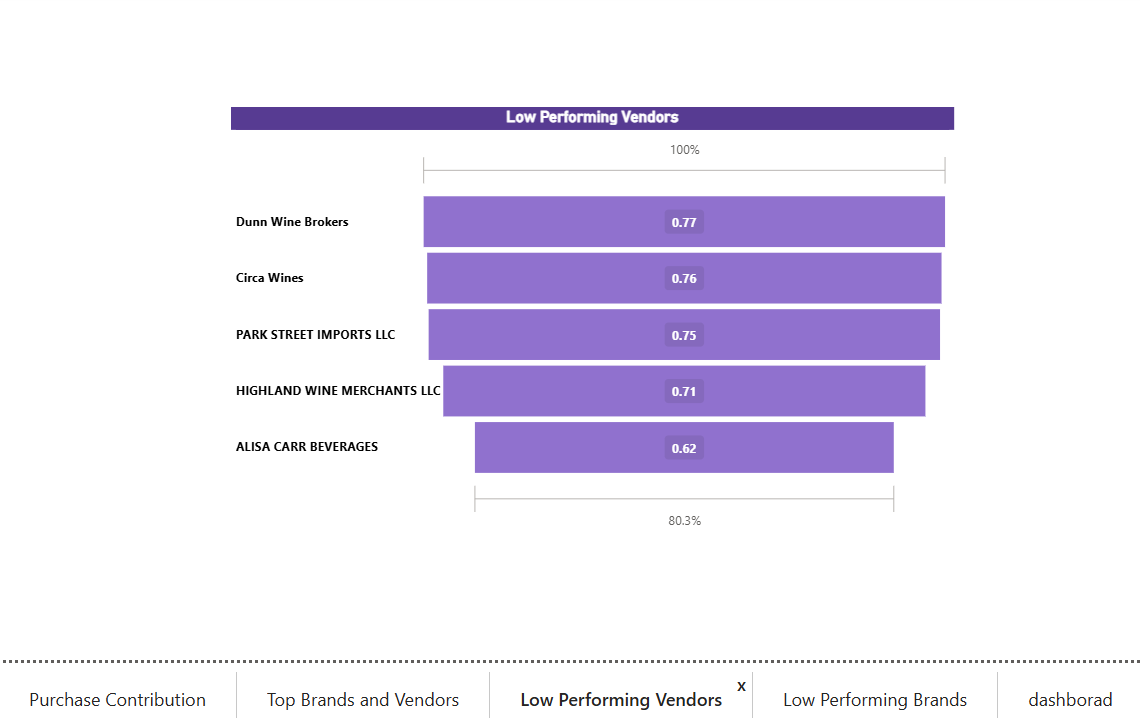

The page's visual inventory and layout, read from the dashboard file:
{"tool":"powerbi","page":{"name":"Low Performing Vendors","canvas":[1280,720],"ordinal":3},"visuals":[{"type":"funnel","title":"Low Performing Vendors","fields":{"Category":["LowTurnoverVendor.VendorName"],"Y":["Avg(LowTurnoverVendor.Avg StockTurnOver)"]},"box":[255.1,122.8,780.5,470.6],"z":0}]}

Visuals, with their boxes on the page's 1280x720 design canvas (x1, y1, x2, y2). These are canvas units, not pixel positions in the 1140x718 screenshot, which may show the page scaled, cropped or inside an application window:
"Low Performing Vendors" funnel: [255,123,1036,593]
